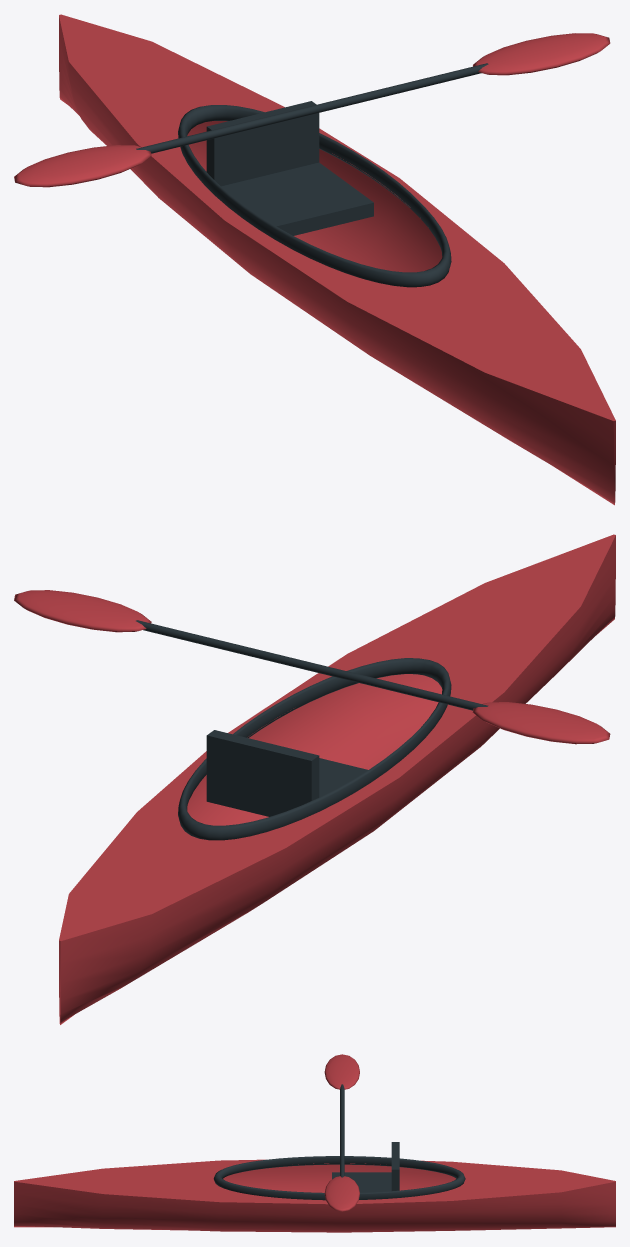
Rendered from kayak.glb.
3 renders of one model, top to bottom at view 1: azimuth 30°, elevation 25°; view 2: azimuth 150°, elevation 25°; view 3: azimuth 270°, elevation 25°, orthographic. The views are drawn at different scales.
Parts seen in each view (by area): view 1: kayak, kayak.deck, kayak.blade.-1, kayak.blade.1, kayak.paddle; view 2: kayak, kayak.deck, kayak.blade.-1, kayak.blade.1, kayak.paddle; view 3: kayak, kayak.deck, kayak.blade.1, kayak.blade.-1, kayak.paddle.
Boxes of the visible parts, <box> form: kayak: <box>59,16,615,505</box>; kayak.deck: <box>59,14,615,420</box>; kayak.blade.-1: <box>14,145,151,187</box>; kayak.blade.1: <box>473,33,610,75</box>; kayak.paddle: <box>136,63,488,153</box>; kayak: <box>59,535,615,1024</box>; kayak.deck: <box>59,534,615,940</box>; kayak.blade.-1: <box>472,702,610,744</box>; kayak.blade.1: <box>14,590,151,632</box>; kayak.paddle: <box>136,620,488,710</box>; kayak: <box>14,1142,615,1232</box>; kayak.deck: <box>14,1159,615,1204</box>; kayak.blade.1: <box>324,1176,359,1211</box>; kayak.blade.-1: <box>324,1054,359,1089</box>; kayak.paddle: <box>340,1084,344,1177</box>.
Size of the model in its own units: 2.72 by 0.788 by 4.4.
